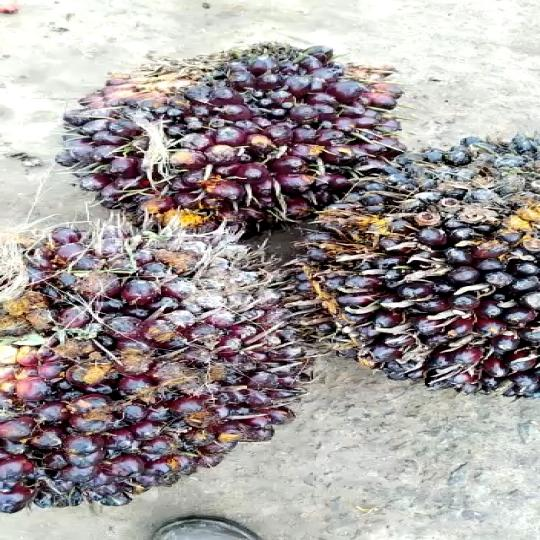kurang masak: (0, 211, 304, 518), (59, 30, 430, 244), (297, 116, 540, 421)
